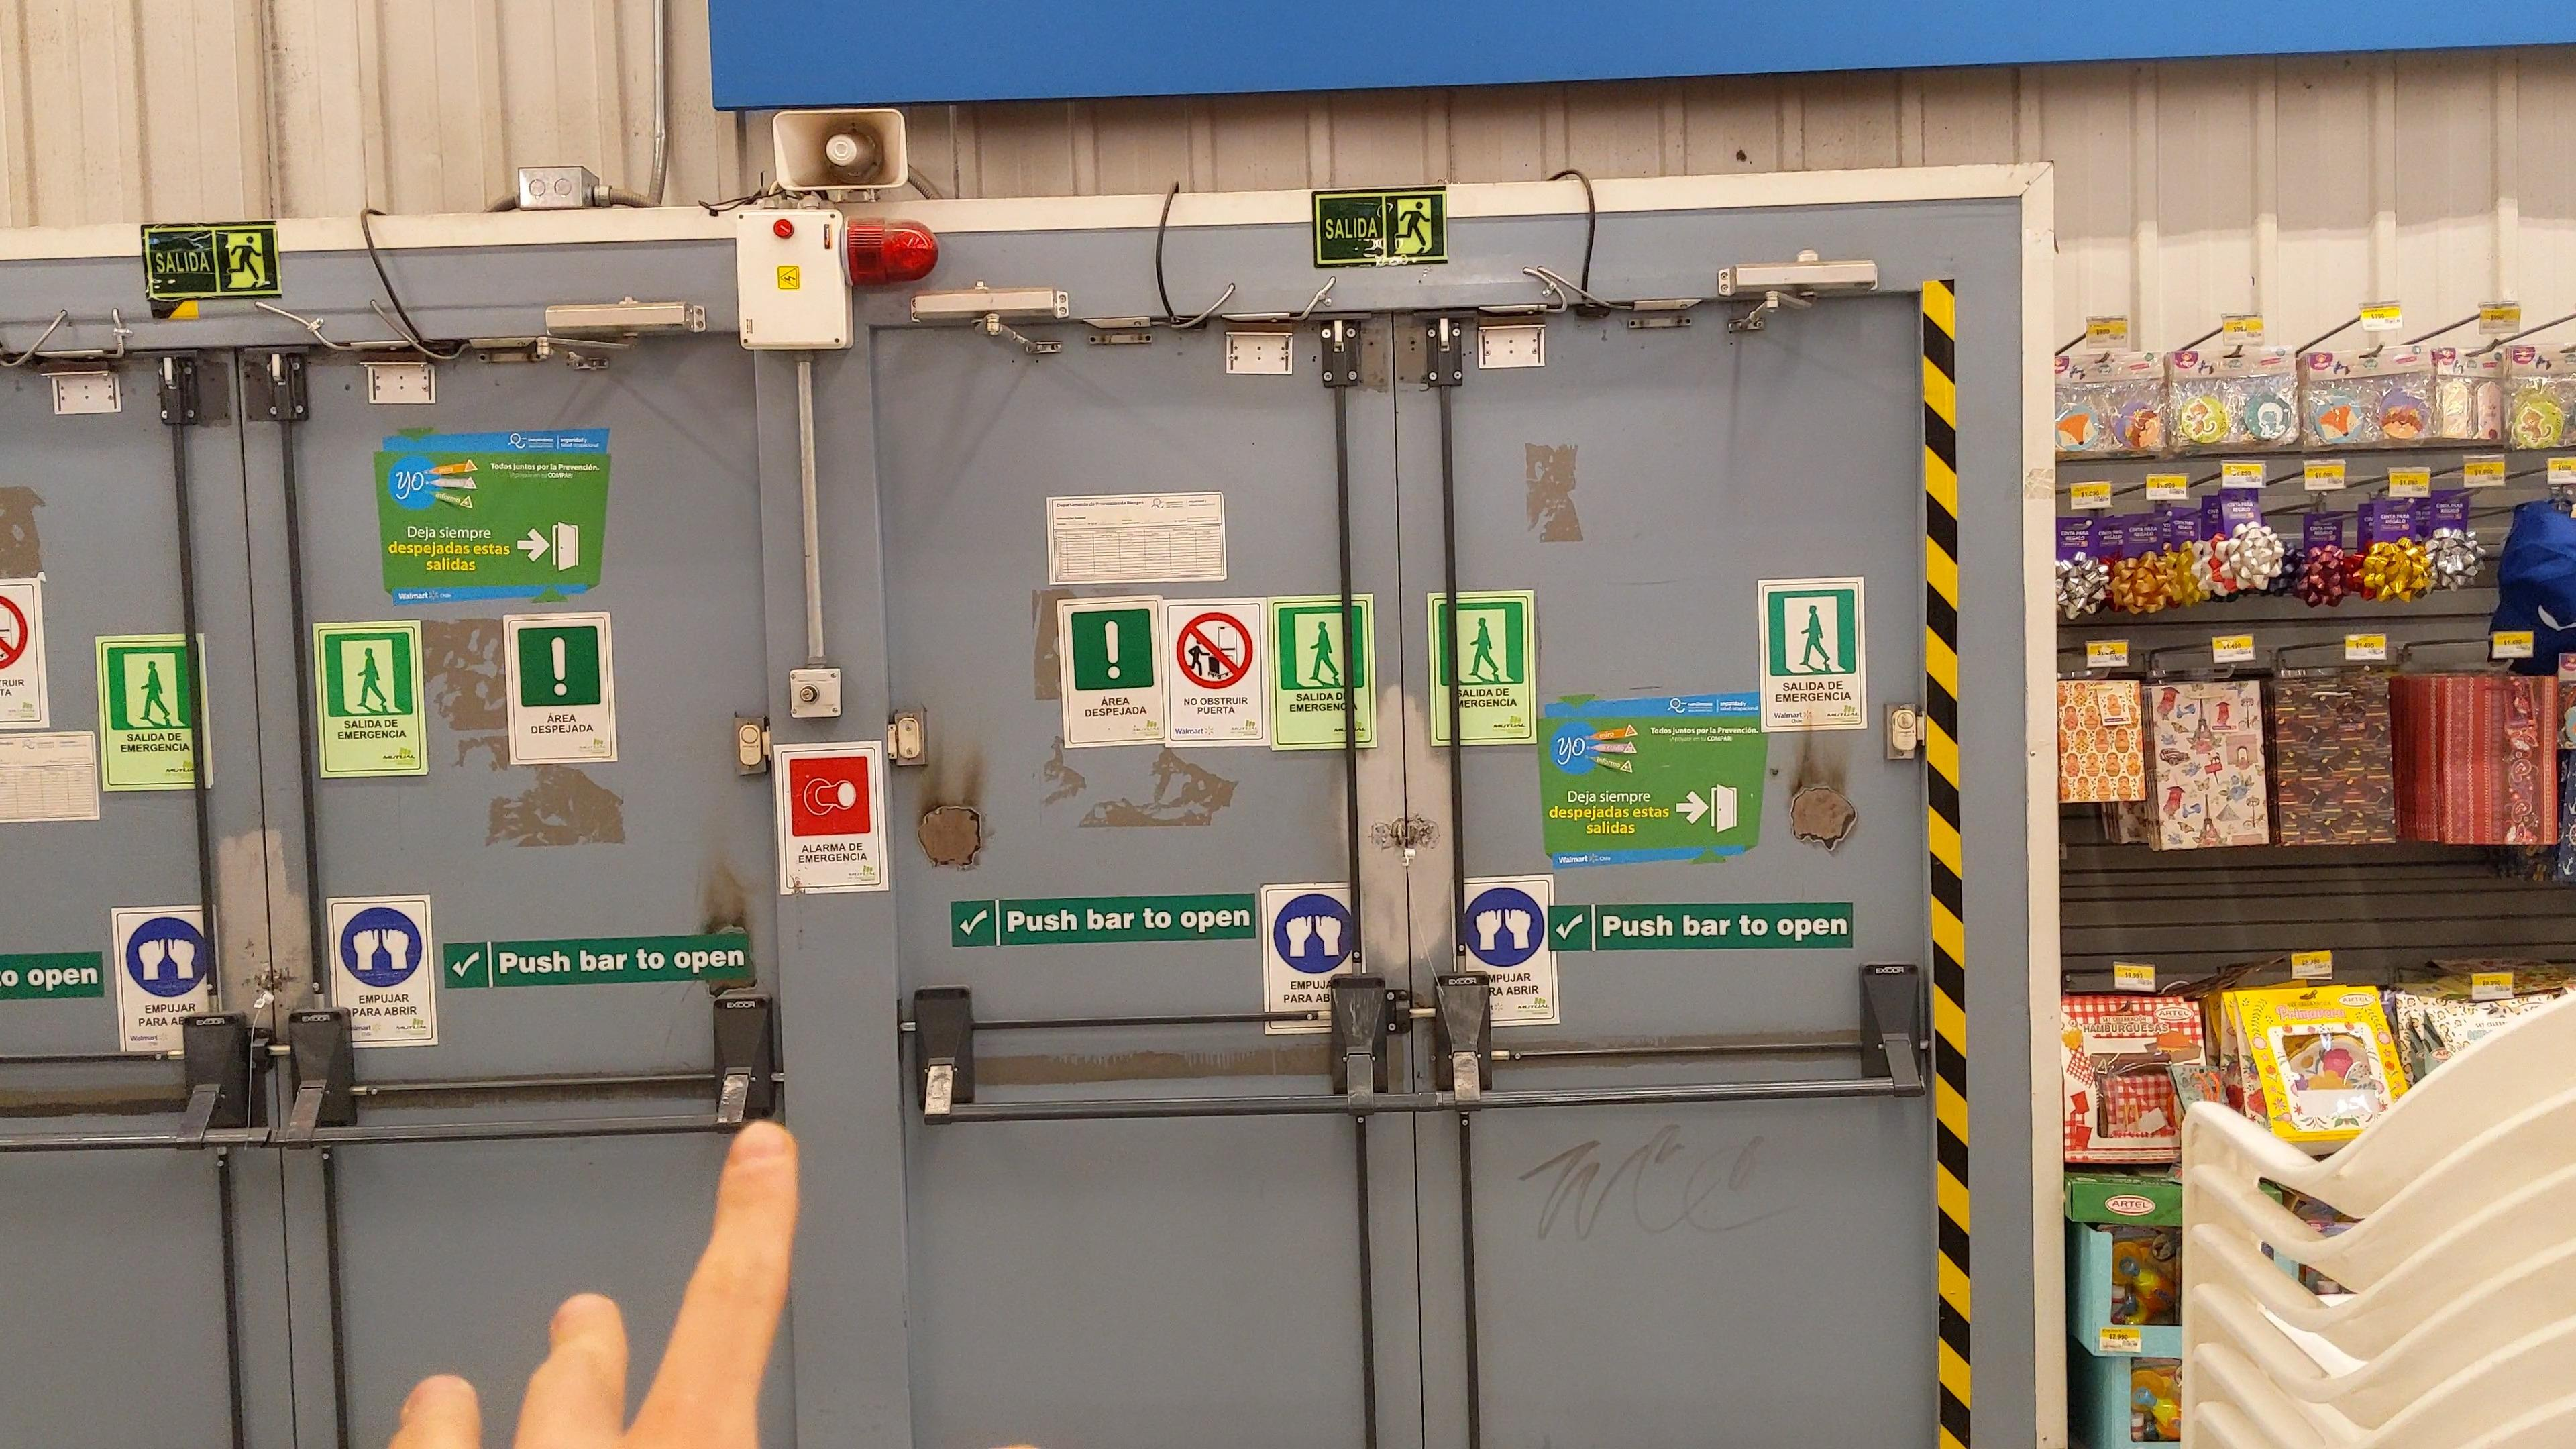emergency exit: (223, 230, 267, 292), (1396, 200, 1437, 257)
